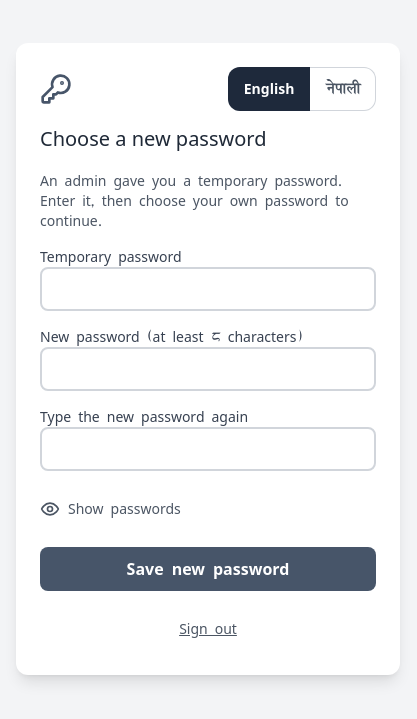
ChangePasswordRequiredPage › shows the server message on a wrong temporary password
Type "wrong-temp" into the password field labelled "Temporary password" at (208, 289), box x1=40 y1=267 x2=376 y2=311
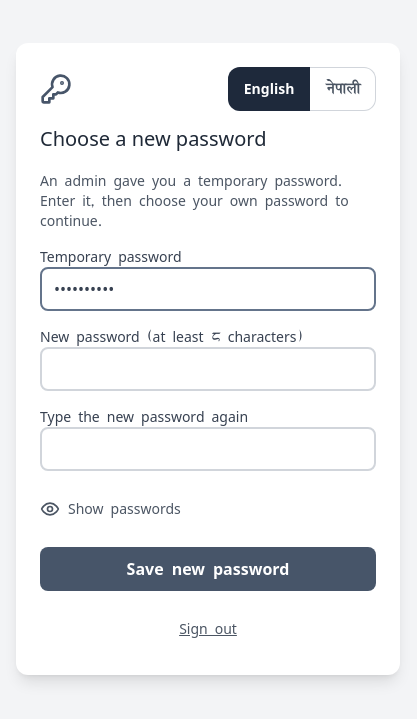
Type "newpass-123" into the password field labelled "New password (at least 8 characters)" at (208, 369), box x1=40 y1=347 x2=376 y2=391
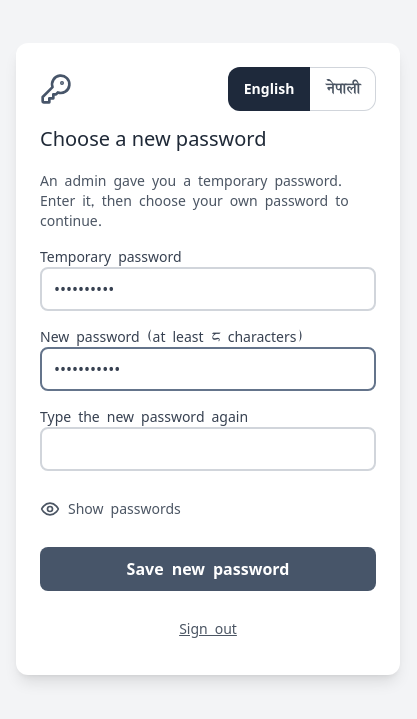
Type "newpass-123" into the password field labelled "Type the new password again" at (208, 449), box x1=40 y1=427 x2=376 y2=471
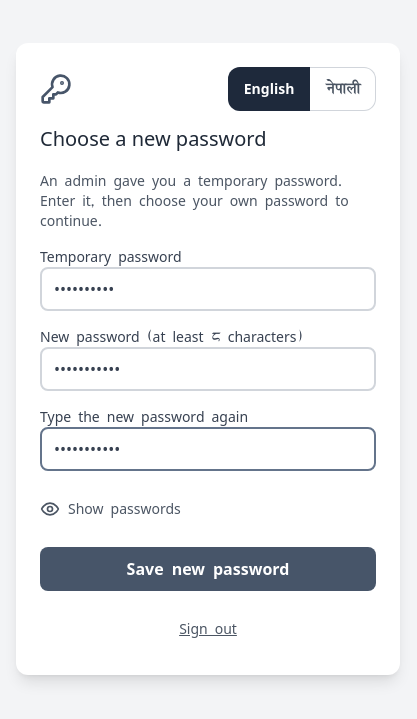
Click the button "Save new password" at (208, 569), box x1=40 y1=547 x2=376 y2=591
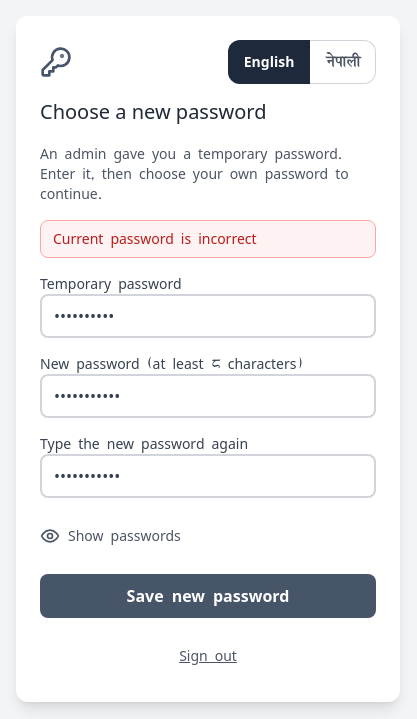
Check: the message reads "Current password is incorrect", box x1=53 y1=227 x2=257 y2=250
